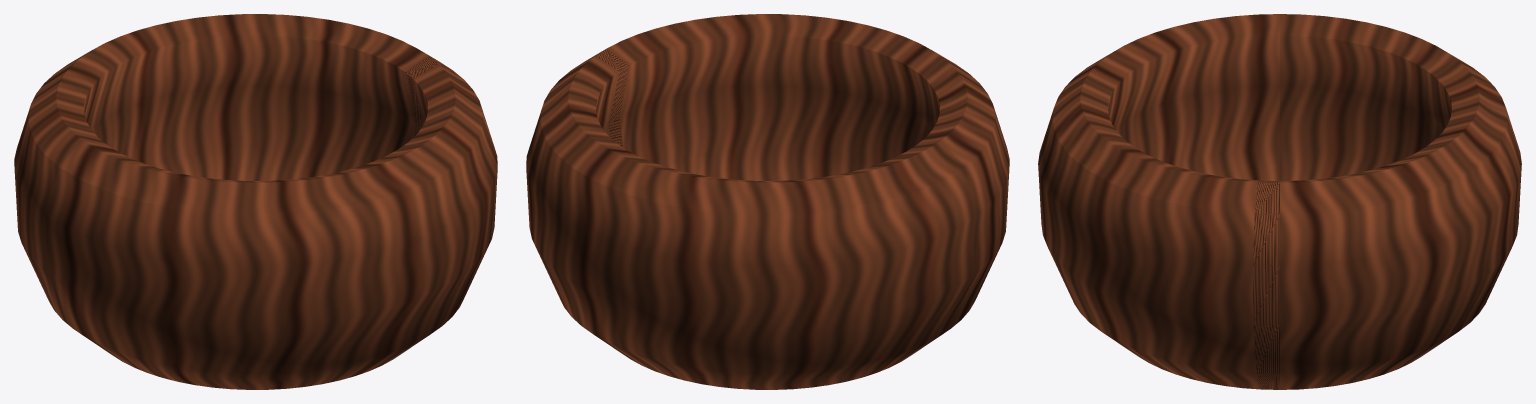
File: StoneBowl_Gameplay.glb
3 renders of one model, left to right at view 1: azimuth 30°, elevation 25°; view 2: azimuth 150°, elevation 25°; view 3: azimuth 270°, elevation 25°, orthographic.
Parts seen in each view (by area): view 1: StoneBowl_Gameplay; view 2: StoneBowl_Gameplay; view 3: StoneBowl_Gameplay.
Boxes of the visible parts, box(x1,y1,x2,y2) form: StoneBowl_Gameplay: box(14, 14, 497, 389); StoneBowl_Gameplay: box(526, 14, 1009, 389); StoneBowl_Gameplay: box(1038, 14, 1521, 389).
Bounding box in the file's own units: 0.436 × 0.235 × 0.436.
Materials: 1 (1 with a texture image).
